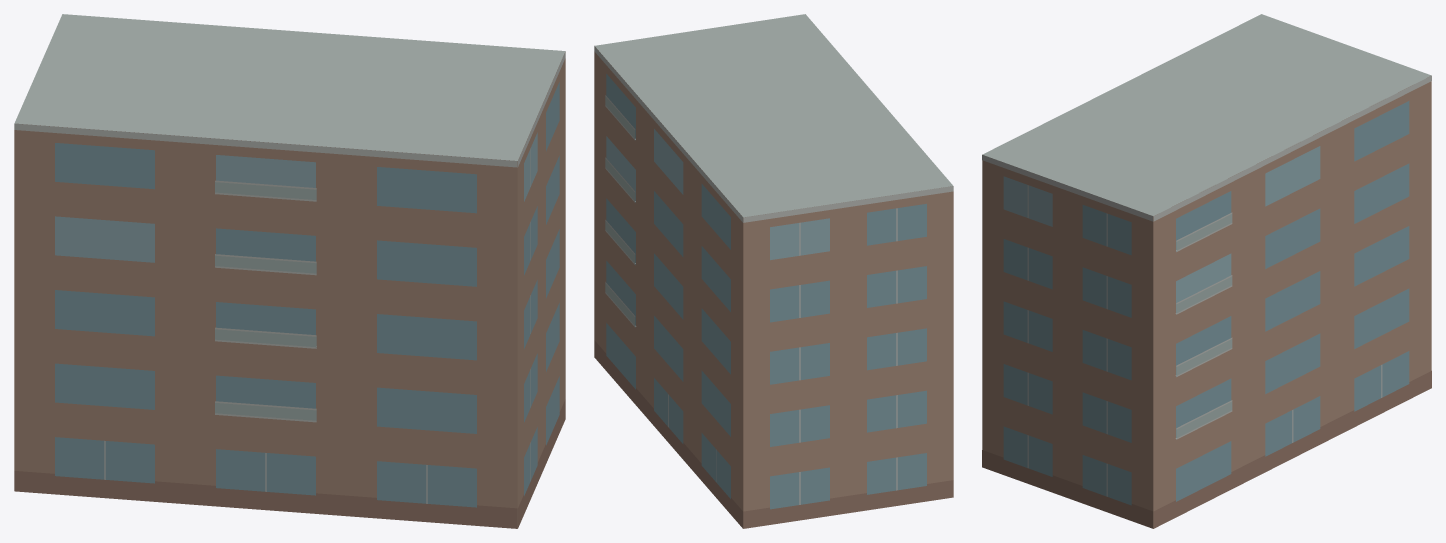
Rendered from survey-upis-32889439.glb.
3 renders of one model, left to right at view 1: azimuth 30°, elevation 25°; view 2: azimuth 150°, elevation 25°; view 3: azimuth 270°, elevation 25°, orthographic. The views are drawn at different scales.
Visible parts, largest first — view 1: survey-upis-32889439.tmp; view 2: survey-upis-32889439.tmp; view 3: survey-upis-32889439.tmp.
Part boxes in pixels (x1,y1,x2,y2): survey-upis-32889439.tmp: [14, 14, 565, 528]; survey-upis-32889439.tmp: [594, 14, 953, 528]; survey-upis-32889439.tmp: [982, 14, 1431, 528].
Bounding box in the file's own units: 19.15 × 13.8 × 17.99.
